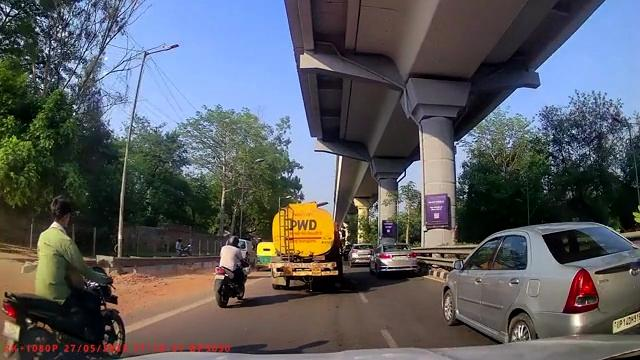motorcycle_with_helmet: (212, 233, 249, 310)
motorcycle_without_helmet: (3, 195, 127, 358)
